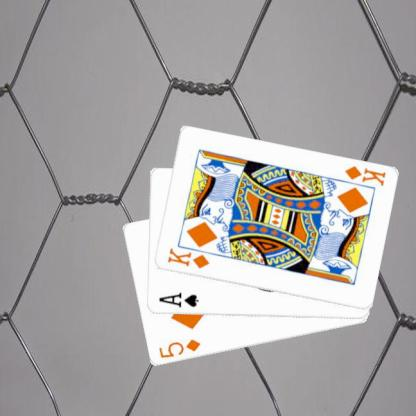5D: (155, 336, 202, 360)
AS: (155, 290, 200, 310)
KD: (342, 163, 387, 188), (164, 246, 210, 270)
